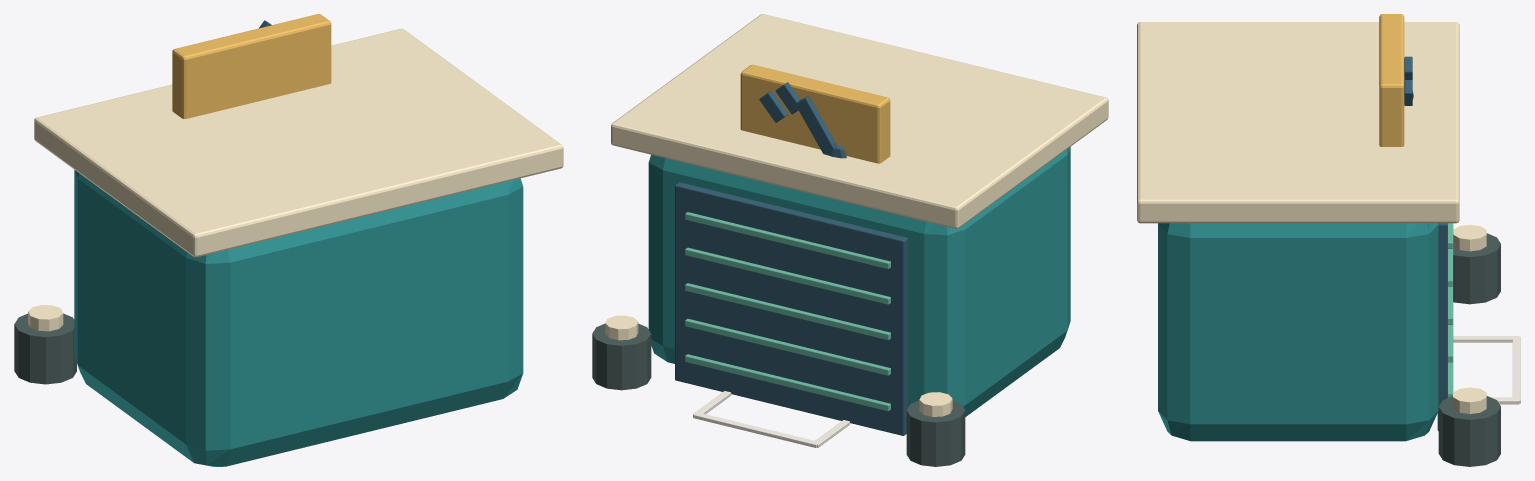
Rendered from garage.glb.
The picture shows the model from 3 angles, left to right: view 1: azimuth 30°, elevation 25°; view 2: azimuth 150°, elevation 25°; view 3: azimuth 270°, elevation 25°; orthographic projection. The views are drawn at different scales.
Parts seen in each view (by area): view 1: garage; view 2: garage; view 3: garage.
Part boxes in pixels (bbox=[...]): garage: bbox=[14, 14, 563, 466]; garage: bbox=[592, 14, 1108, 466]; garage: bbox=[1137, 14, 1520, 466].
Size of the model in its own units: 4.3 by 3.45 by 3.69.
